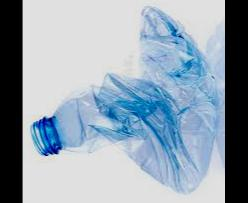Plastic: (26, 0, 221, 198)
